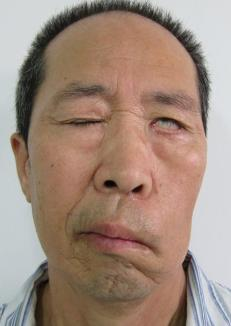strokeEyeSevere: (44, 77, 198, 151)
strokeMouthWeak: (72, 217, 164, 261)
